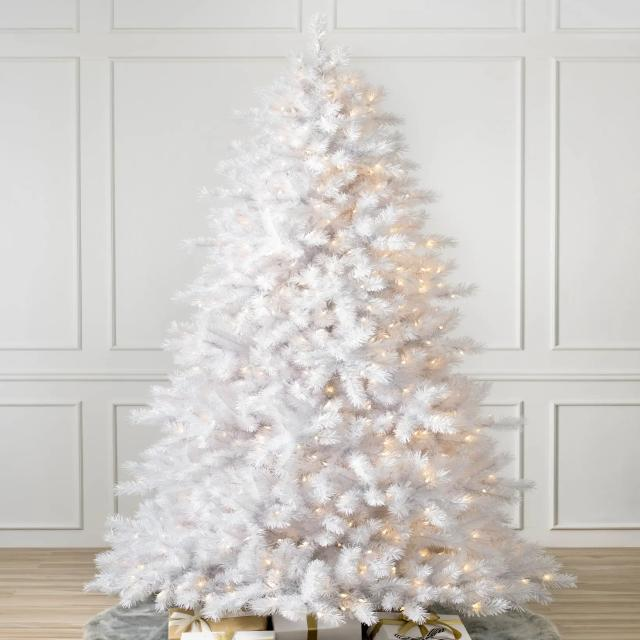Christmas-tree: (113, 0, 572, 606)
